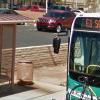Bus: (67, 8, 100, 100)
